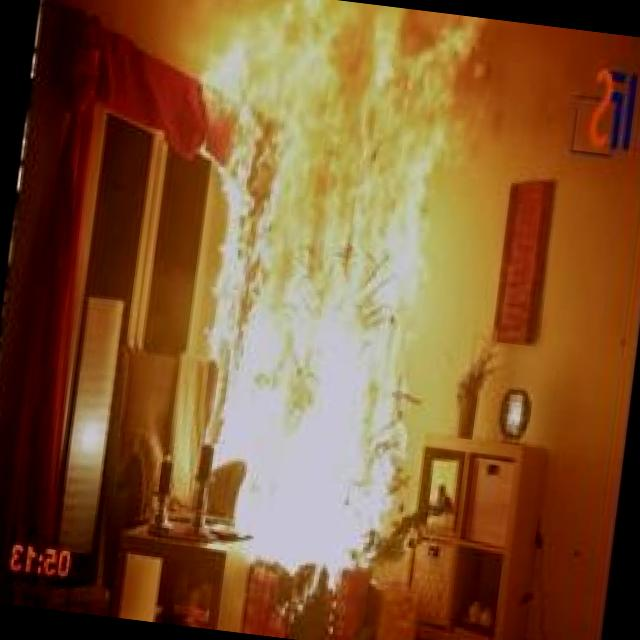fire: (121, 0, 523, 613)
